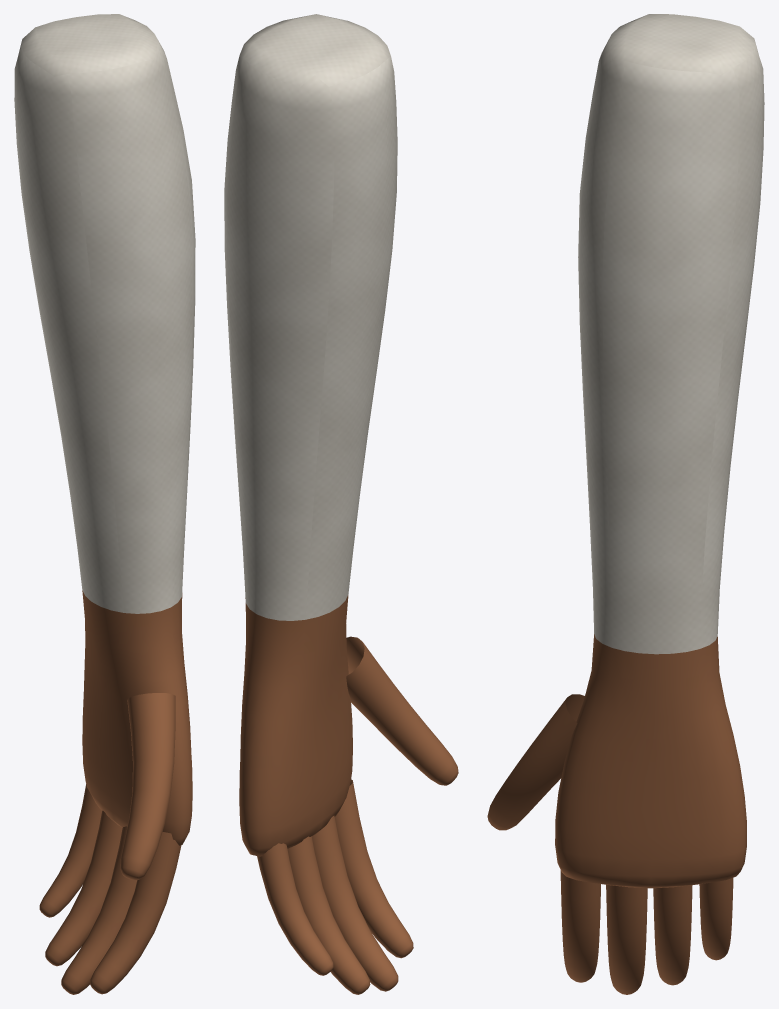
Rendered from antebrazoizq.obj.
3 renders of one model, left to right at view 1: azimuth 30°, elevation 25°; view 2: azimuth 150°, elevation 25°; view 3: azimuth 270°, elevation 25°, orthographic. The views are drawn at different scales.
Visible parts, largest first — view 1: AntebrazoIzq; view 2: AntebrazoIzq; view 3: AntebrazoIzq.
Boxes of the visible parts, x1,y1,x2,y2 form: AntebrazoIzq: (14,14,195,994); AntebrazoIzq: (224,14,458,994); AntebrazoIzq: (487,14,764,994).
Size of the model in its own units: 0.0763 by 0.4489 by 0.1146.
Materials: 2 (2 with a texture image).
